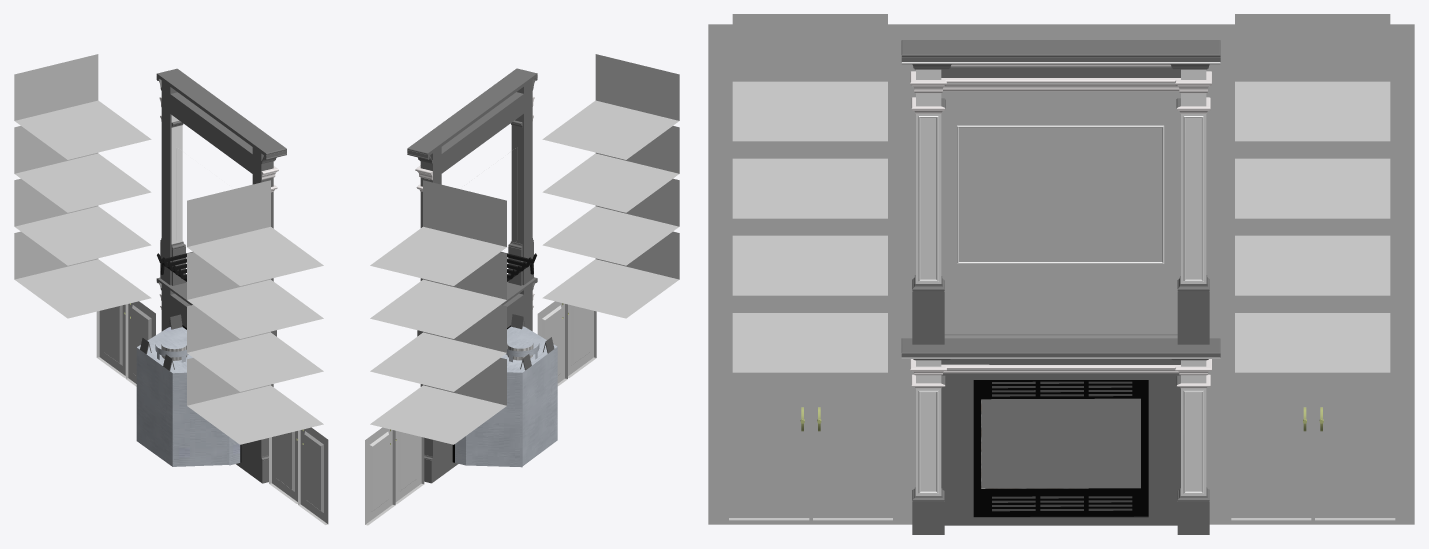
File: Fireplace Builtin.glb
3 renders of one model, left to right at view 1: azimuth 30°, elevation 25°; view 2: azimuth 150°, elevation 25°; view 3: azimuth 270°, elevation 25°, orthographic. The views are drawn at different scales.
Parts seen in each view (by area): view 1: object 4, object 41, WBFP-36, object 68, object 13, object 65, object 2, object 63; view 2: object 4, object 41, WBFP-36, object 65, object 13, object 63, object 68, object 2; view 3: object 4, object 13, object 41, object 5, WBFP-36, object 67, object 70.
Part boxes in pixels (box(x1,y1,x2,y2)): object 4: box(14, 54, 323, 444); object 41: box(156, 68, 286, 336); WBFP-36: box(136, 314, 241, 466); object 68: box(298, 427, 328, 524); object 13: box(156, 277, 273, 483); object 65: box(96, 304, 125, 377); object 2: box(269, 431, 297, 503); object 63: box(125, 301, 155, 386); object 4: box(370, 54, 679, 444); object 41: box(407, 68, 537, 336); WBFP-36: box(452, 314, 557, 467); object 65: box(365, 427, 395, 525); object 13: box(420, 277, 537, 483); object 63: box(395, 431, 424, 504); object 68: box(568, 304, 596, 377); object 2: box(537, 301, 567, 386); object 4: box(708, 14, 1414, 524); object 13: box(901, 338, 1220, 534); object 41: box(901, 40, 1220, 344); object 5: box(981, 398, 1140, 488); WBFP-36: box(973, 380, 1148, 516); object 67: box(1183, 116, 1203, 281); object 70: box(918, 116, 938, 281).
Bounding box in the file's own units: 0.974 × 3.05 × 3.9.
Materials: 14 (3 with a texture image).
